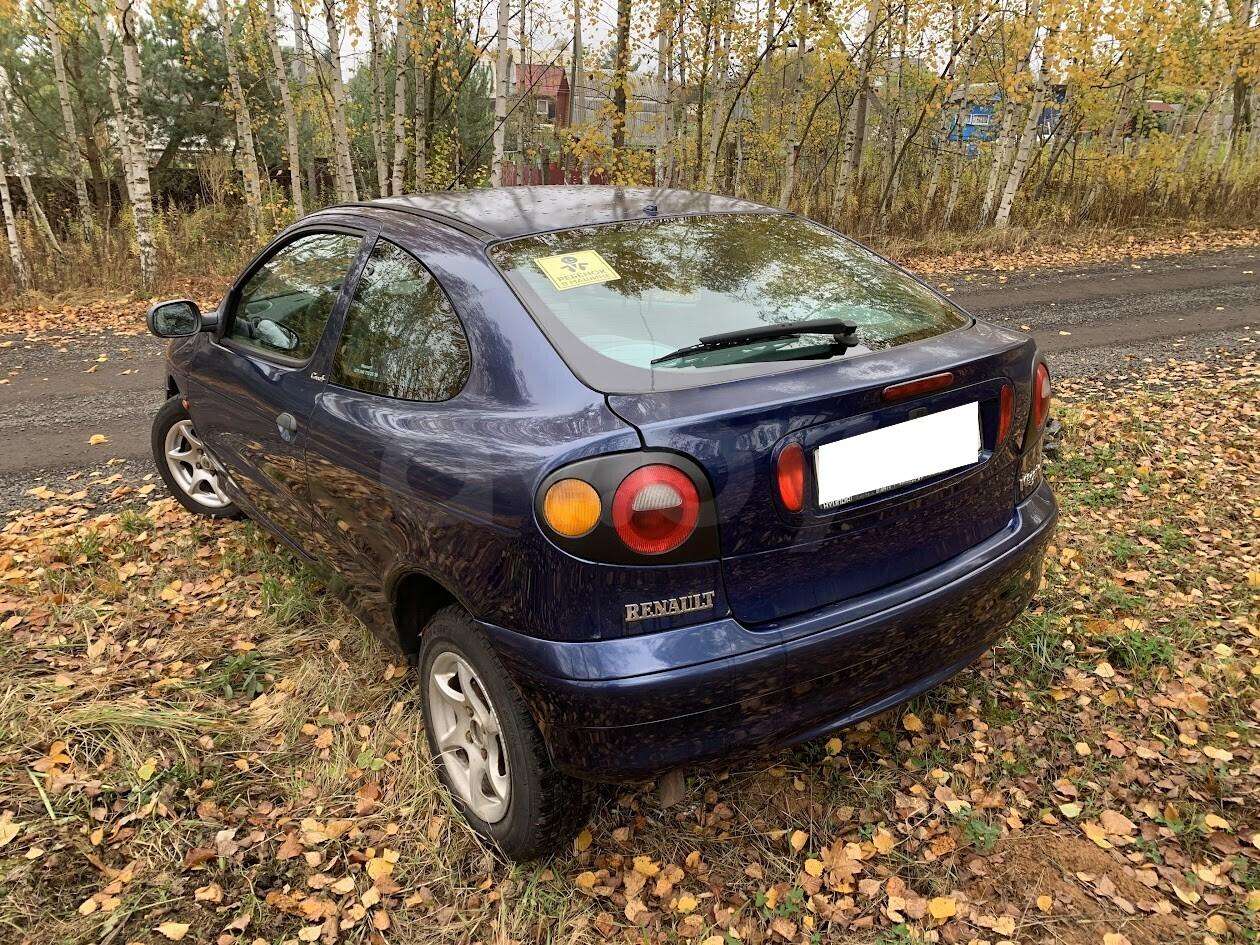Megane_1995-1999: (141, 175, 1064, 824)
